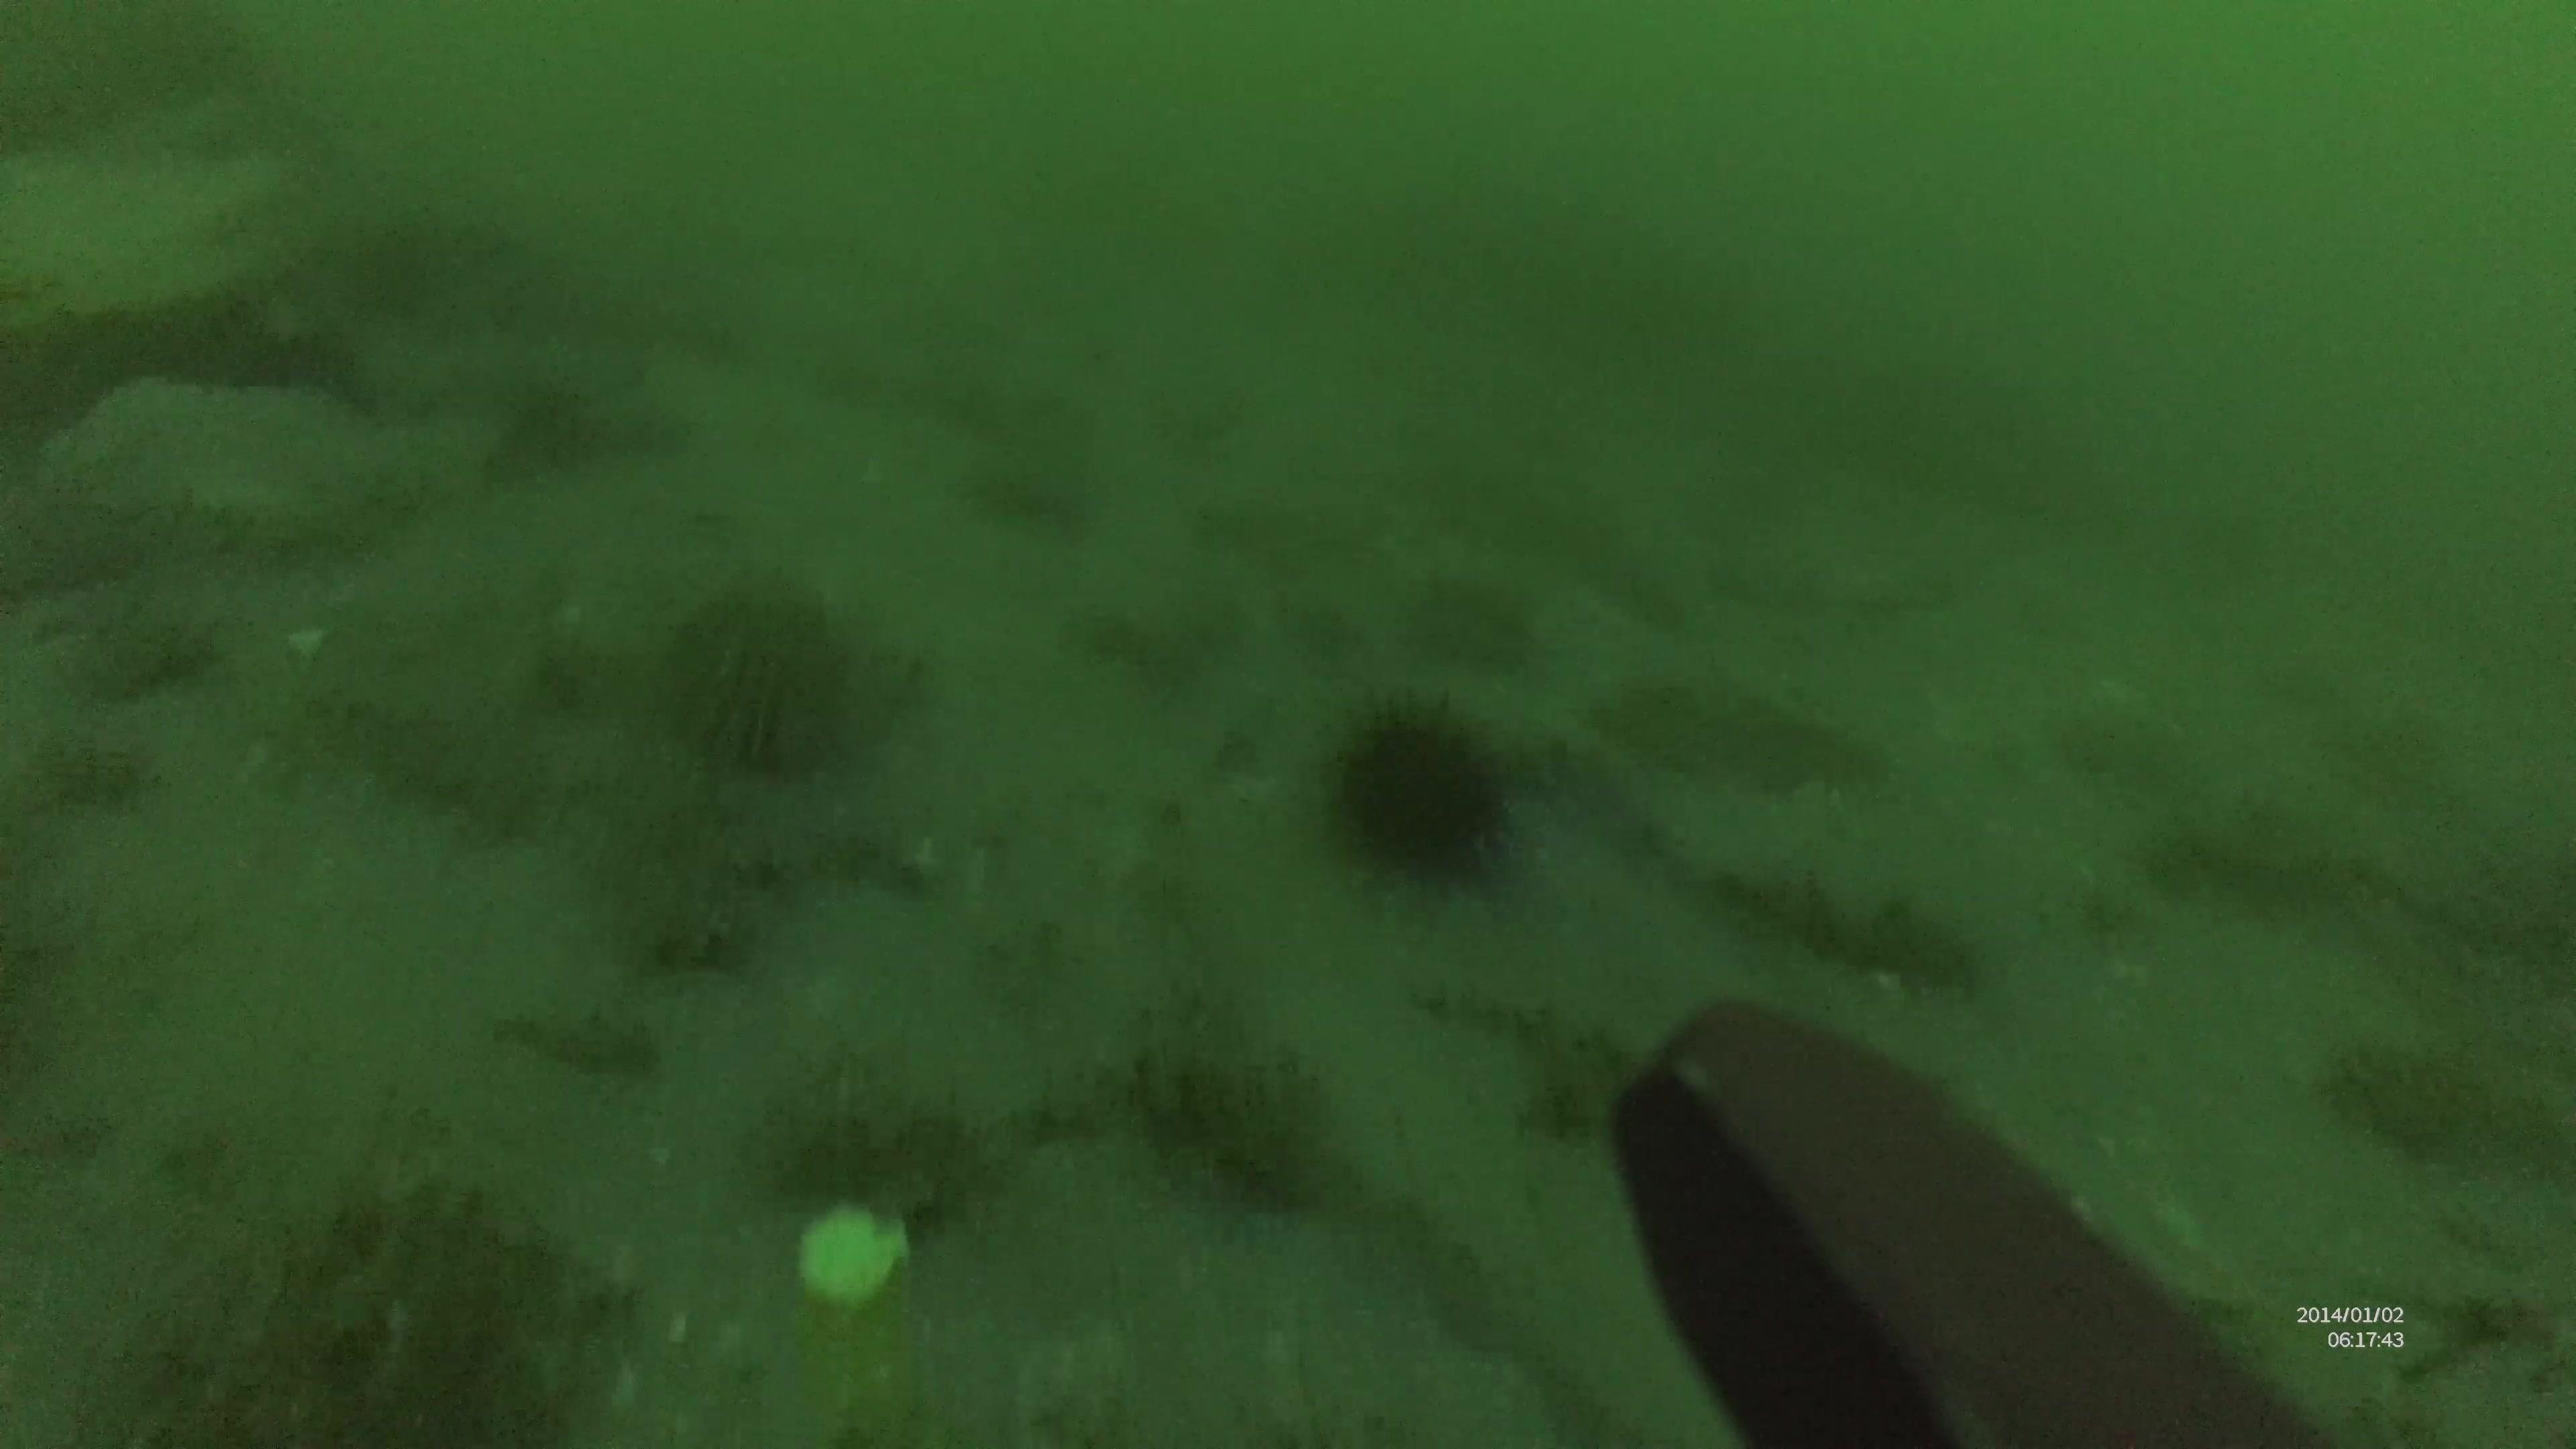echinus: (1338, 697, 1514, 901)
scallop: (796, 1203, 911, 1313)
starfish: (41, 359, 400, 556)
